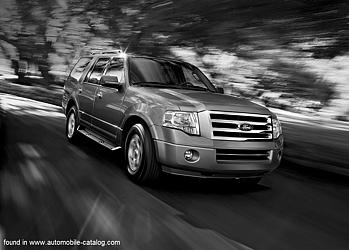car: (58, 50, 289, 187)
